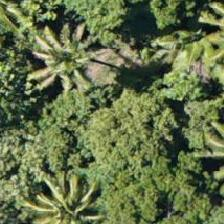coconut_tree: (22, 9, 112, 99), (20, 160, 110, 223)
